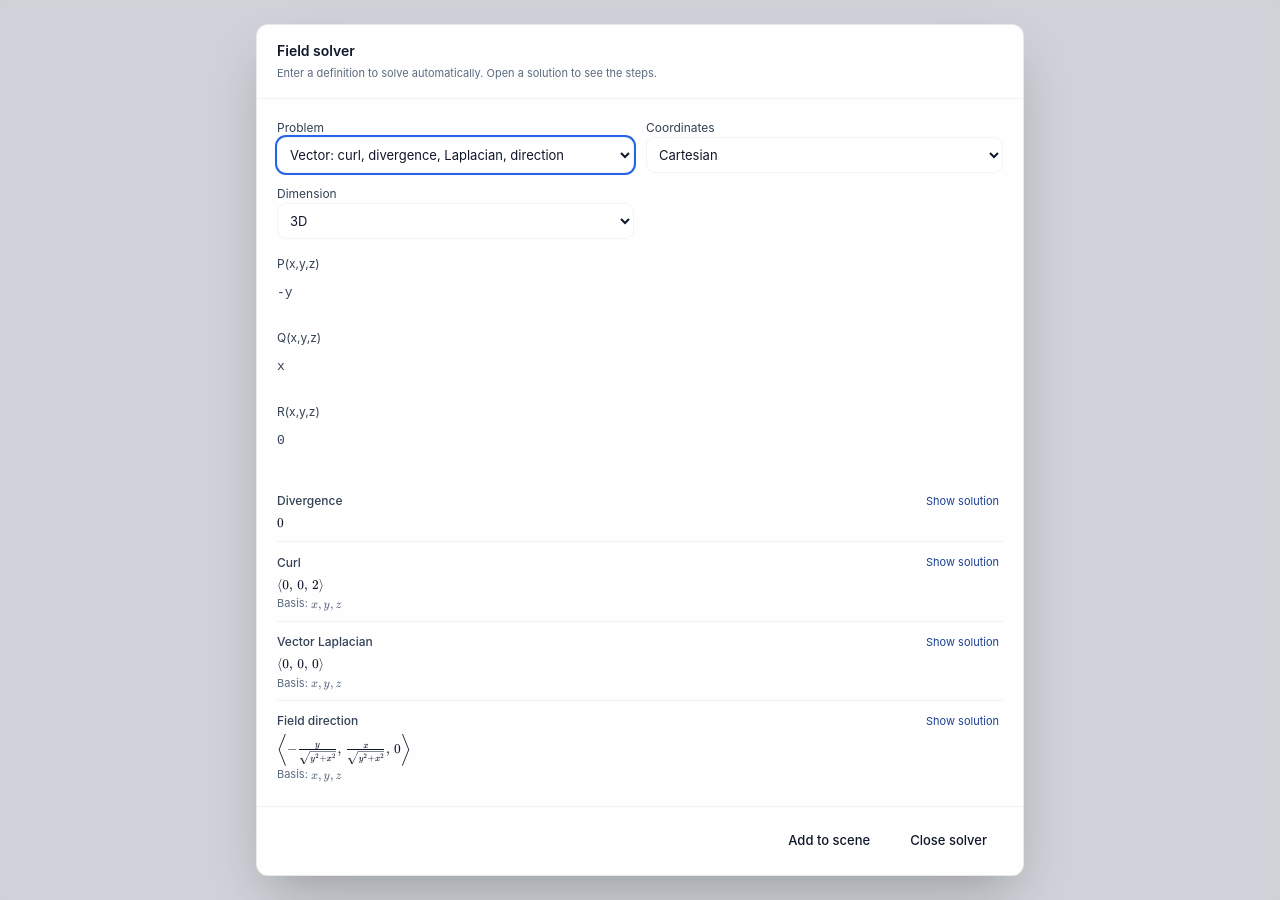
automatic solution UI › refreshes answers after definition changes and reports unsupported inputs
This screenshot has width=1280, height=900.
Expected: the element named "<0, 0, 2>" is shown, 277,576 -> 324,595
Replace the text in the field labelled "P(x,y,z)" with "-2*y" at (618, 292), box 277,276 -> 959,308
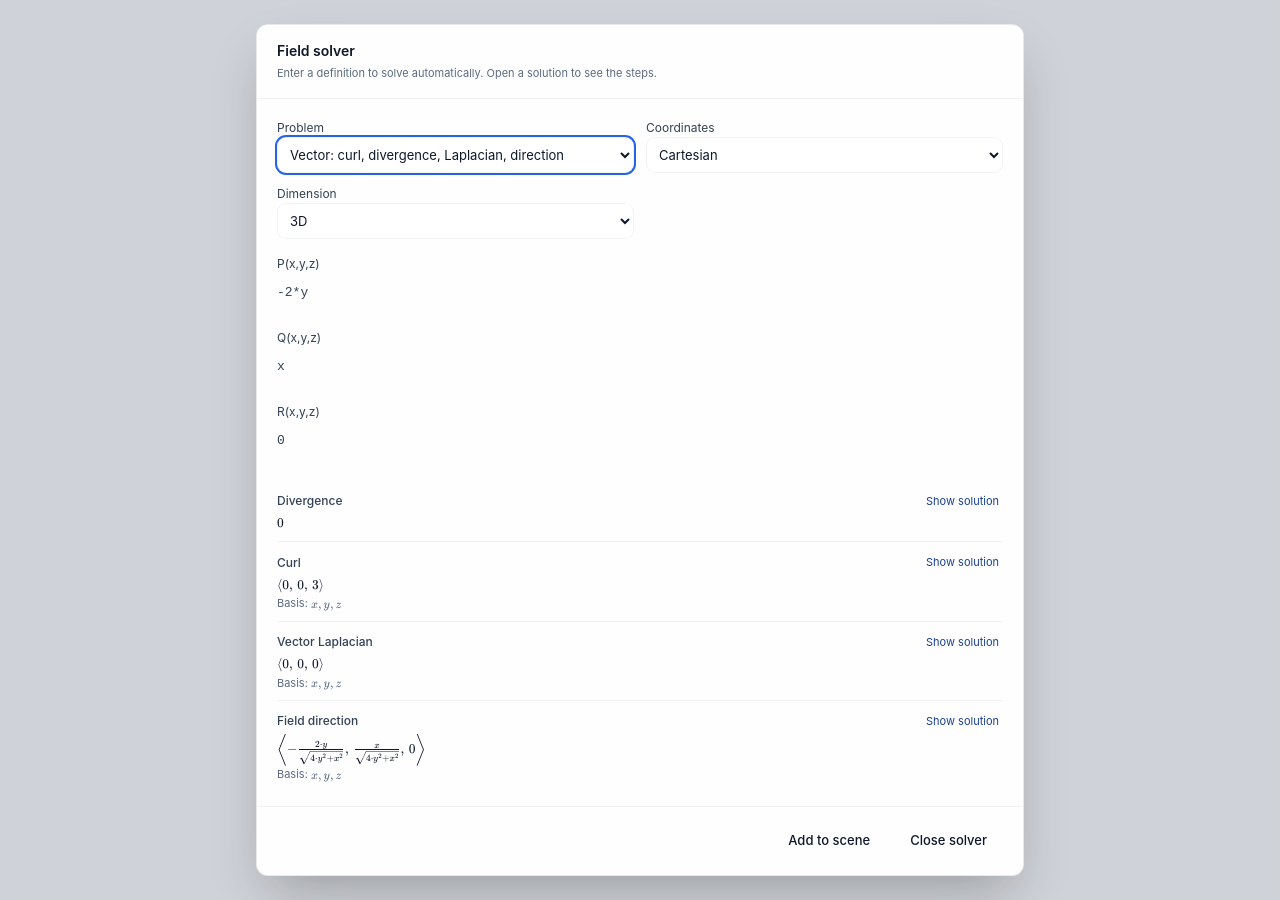
Expected: the element named "<0, 0, 3>" is shown, 277,576 -> 324,595
Replace the text in the field labelled "P(x,y,z)" with "factorial(x)" at (618, 292), box 277,276 -> 959,308
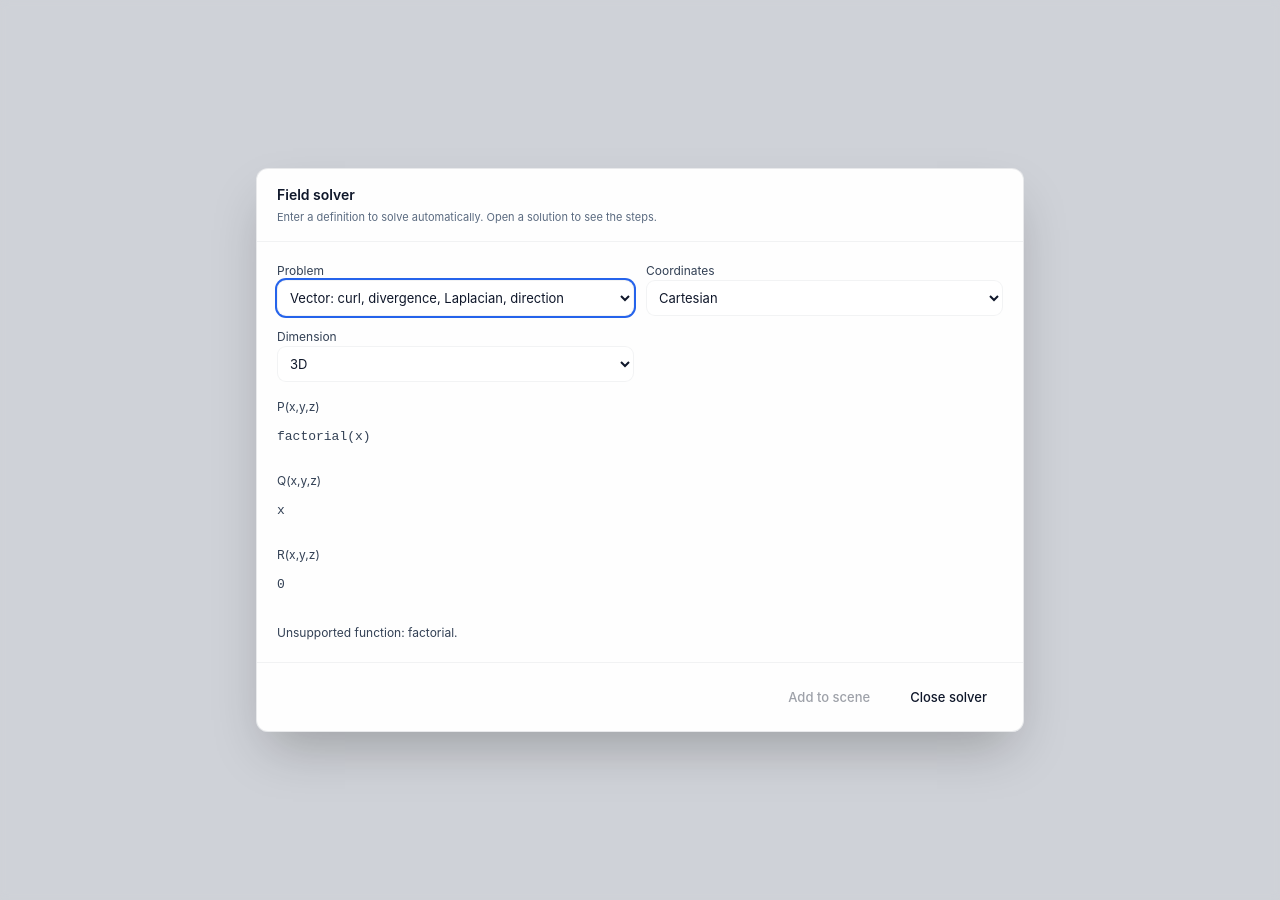
Expected: the text "Unsupported function: factorial." is shown, 277,625 -> 458,640
Expected: the element with test id "symbolic-curl" is gone
Expected: the button "Add to scene" is disabled, 772,679 -> 886,715
